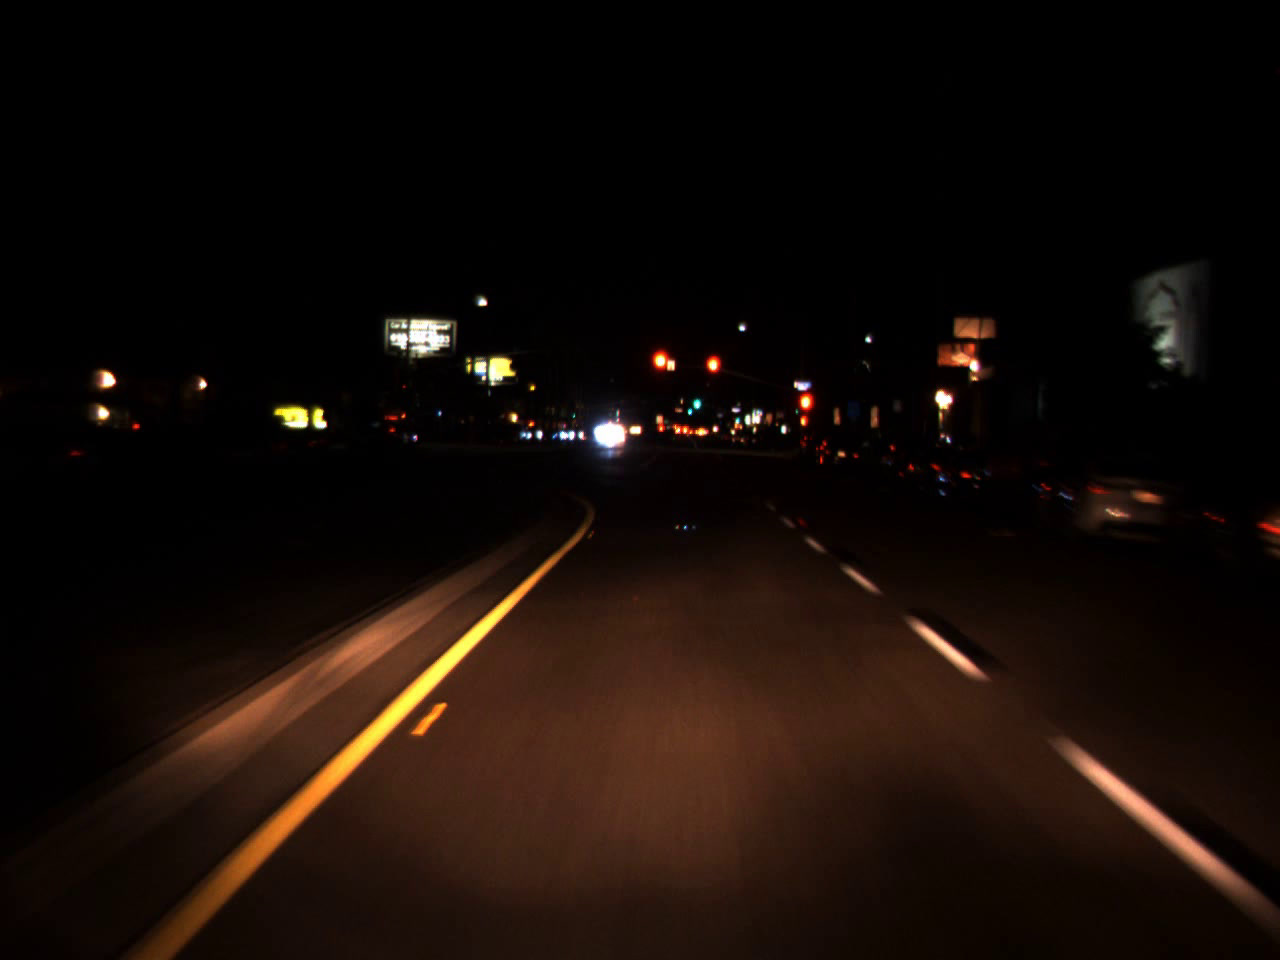go: (691, 389, 701, 410), (569, 405, 577, 419), (686, 403, 693, 415), (733, 413, 740, 425)
stop: (650, 347, 672, 392), (797, 390, 815, 433), (703, 353, 722, 393)
